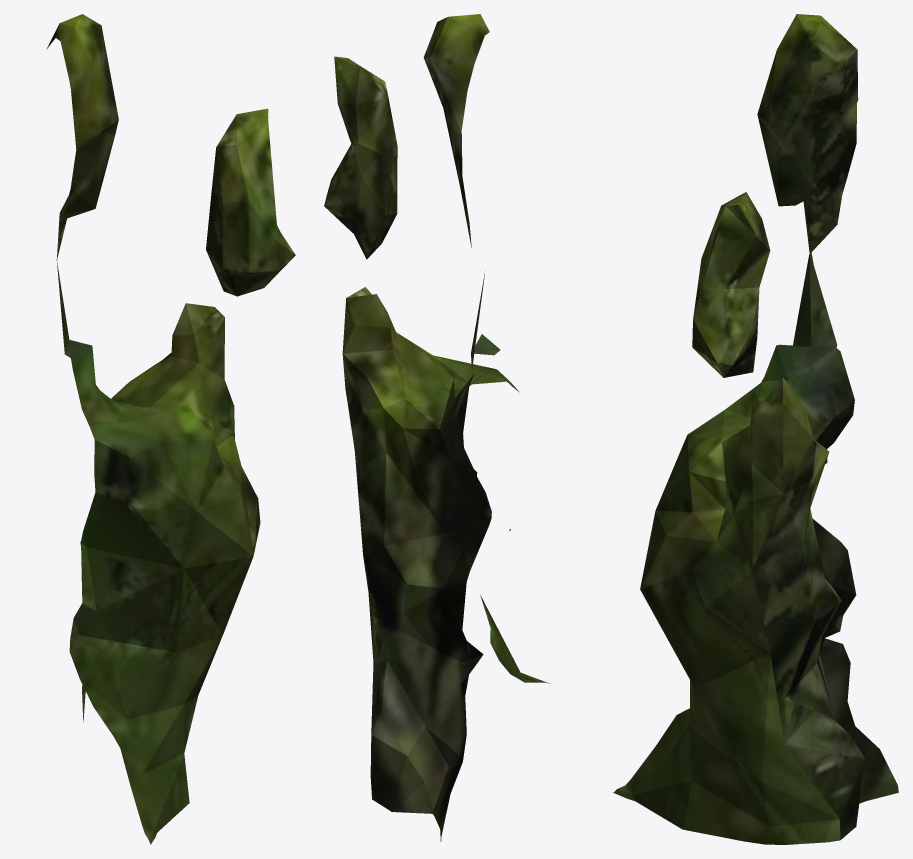
The picture shows the model from 3 angles, left to right: view 1: azimuth 30°, elevation 25°; view 2: azimuth 150°, elevation 25°; view 3: azimuth 270°, elevation 25°; orthographic projection. The views are drawn at different scales.
Size of the model in its own units: 0.1717 by 0.6315 by 0.2081.
Materials: 1 (1 with a texture image).
